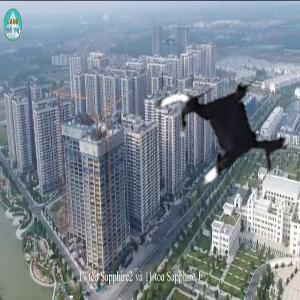drone: (149, 60, 299, 210)
